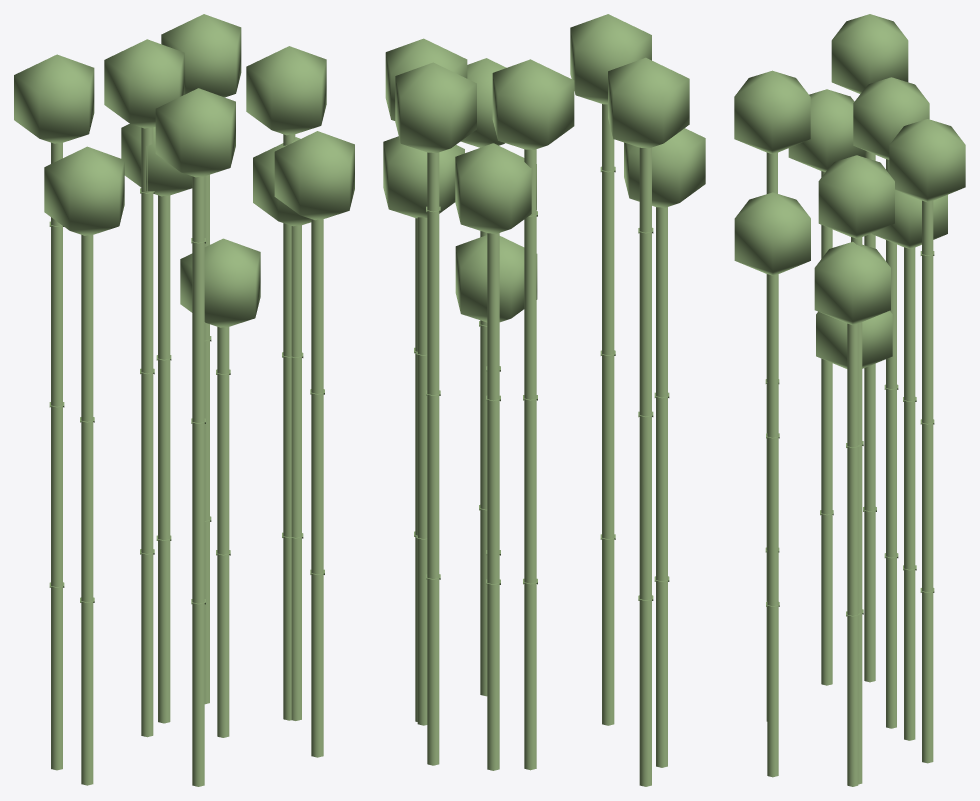
The model's file is bamboo_cluster.glb.
3 views of the same model, side by side, from view 1: azimuth 30°, elevation 25°; view 2: azimuth 150°, elevation 25°; view 3: azimuth 270°, elevation 25° (orthographic). The views are drawn at different scales.
Visible parts, largest first — view 1: bamboo_cluster; view 2: bamboo_cluster; view 3: bamboo_cluster.
Boxes of the visible parts, <box> form: bamboo_cluster: <box>14,14,354,786</box>; bamboo_cluster: <box>383,14,705,786</box>; bamboo_cluster: <box>734,14,965,786</box>.
Bounding box in the file's own units: 3.45 × 7.9 × 2.49.
